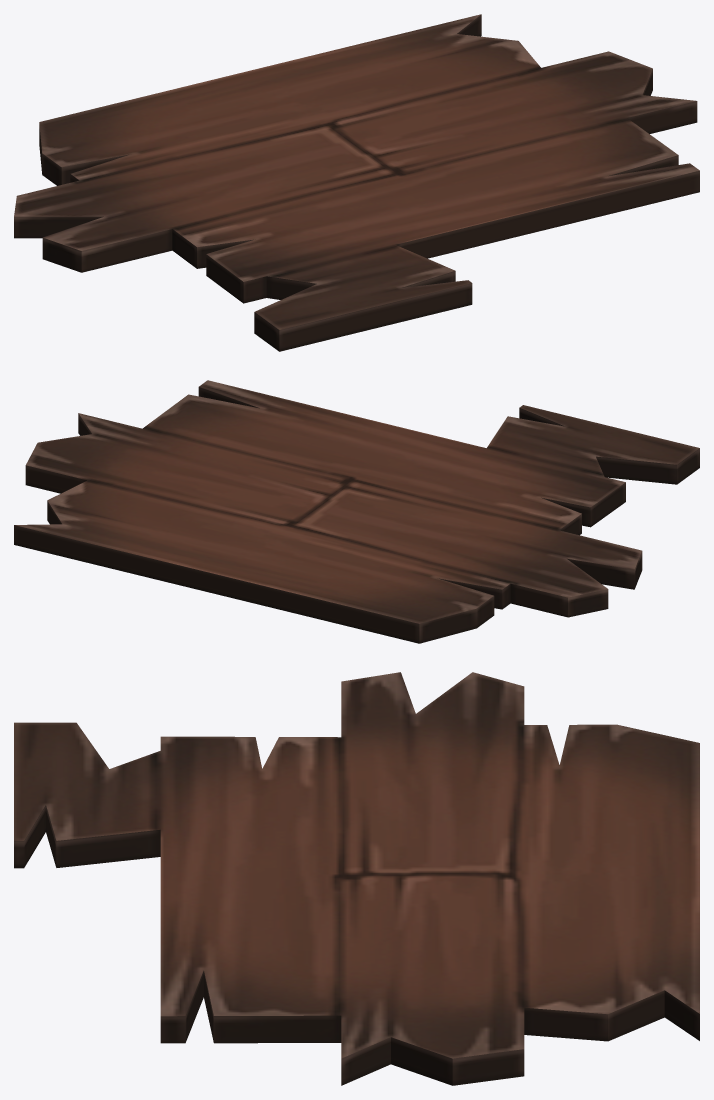
File: bg_platform01.FBX
The picture shows the model from 3 angles, top to bottom: view 1: azimuth 30°, elevation 25°; view 2: azimuth 150°, elevation 25°; view 3: azimuth 270°, elevation 25°; orthographic projection. The views are drawn at different scales.
Parts seen in each view (by area): view 1: bg_platform01; view 2: bg_platform01; view 3: bg_platform01.
Boxes of the visible parts, left/top/right/bottom form: bg_platform01: left=14, top=14, right=699, bottom=351; bg_platform01: left=14, top=380, right=699, bottom=643; bg_platform01: left=14, top=672, right=699, bottom=1085.
Size of the model in its own units: 330 by 10.83 by 247.
1 material, 1 textured.
